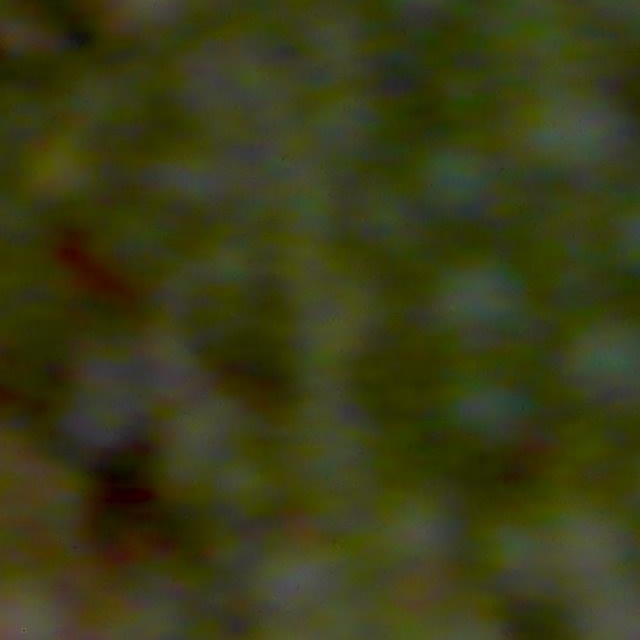SeaGrape: (523, 84, 628, 177), (434, 250, 528, 337), (372, 486, 458, 568), (444, 374, 528, 449), (567, 313, 640, 399), (419, 141, 495, 216)
